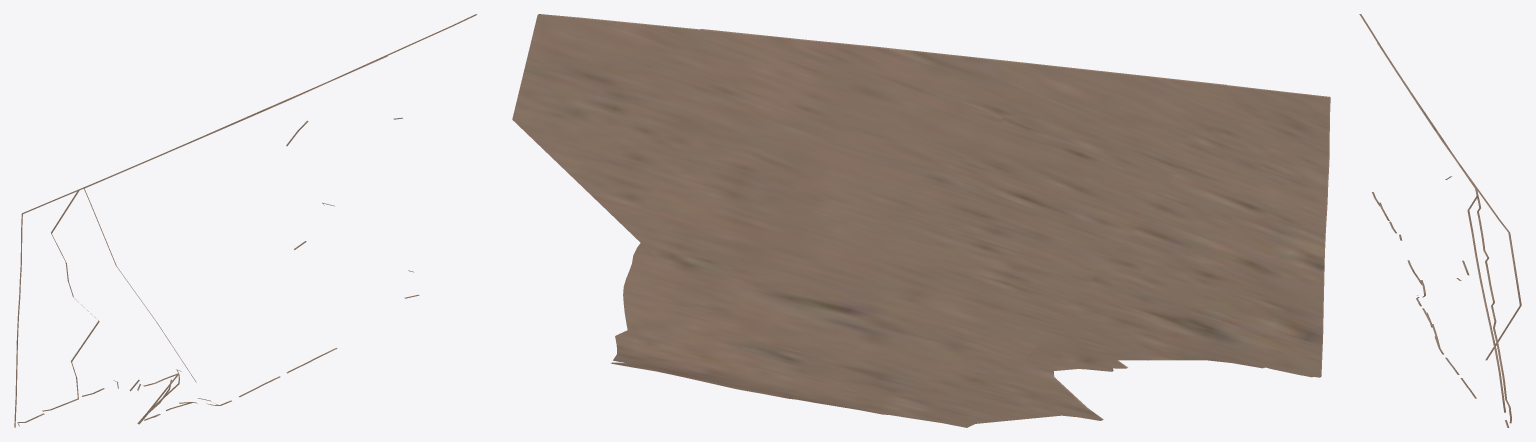
The picture shows the model from 3 angles, left to right: view 1: azimuth 30°, elevation 25°; view 2: azimuth 150°, elevation 25°; view 3: azimuth 270°, elevation 25°; orthographic projection. The views are drawn at different scales.
Size of the model in its own units: 26.62 by 13.17 by 8.17.
1 material, 1 textured.
